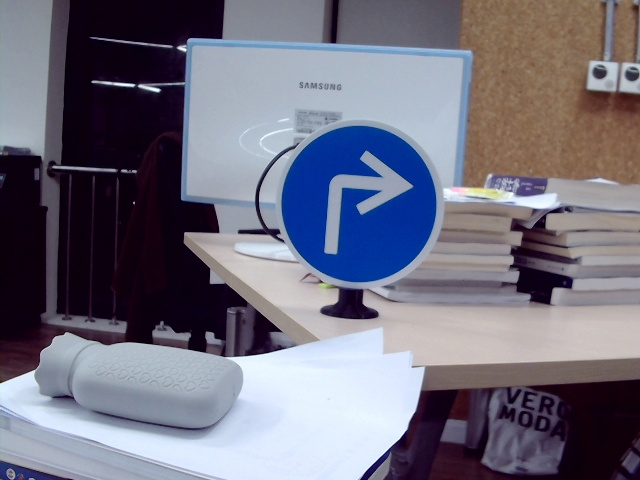turn_right: (316, 150, 414, 261)
